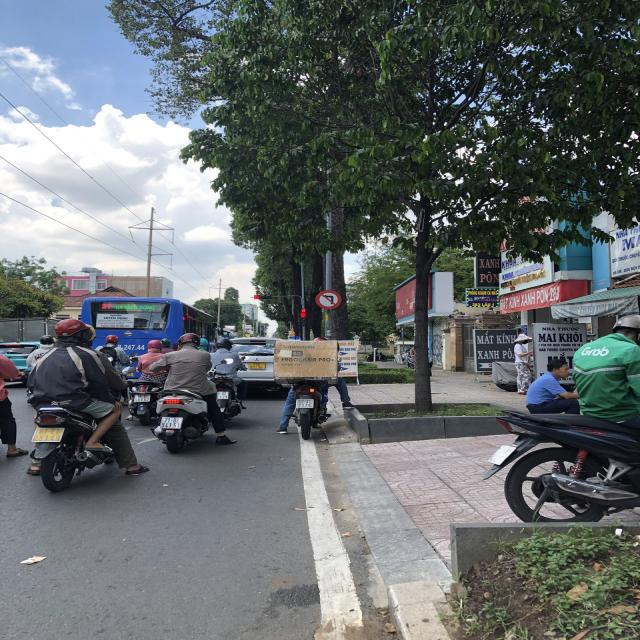Bien bao cam re trai: (313, 289, 341, 310)
